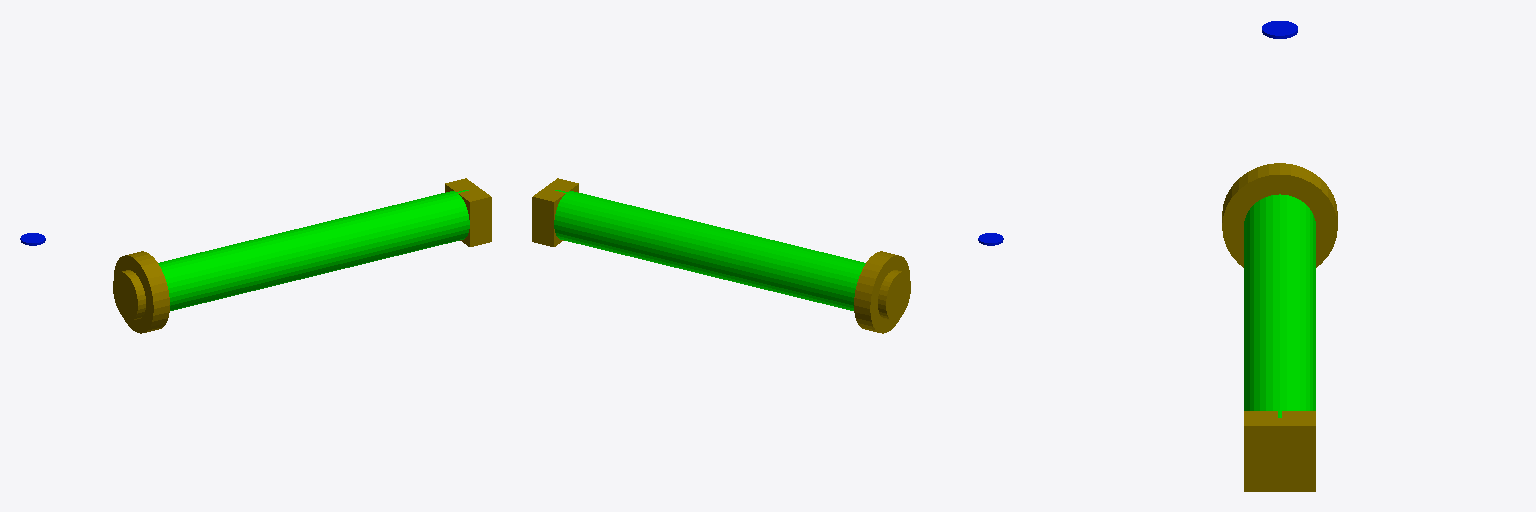
robot.urdf — tilted_hex_arm:
<?xml version="1.0"?>
<robot name="tilted_hex_arm" xmlns:xacro="http://wiki.ros.org/xacro">

    <link name="map"/>  
    <link name="base_link_roll"/>
    <link name="base_link_pitch"/>
    <link name="base_link_yaw"/>
    <link name="x_link"/>
    <link name="y_link"/>
    <link name="z_link"/>

    <joint name="x_joint" type="prismatic">
                <parent link="map"/>
                <child link="x_link"/>
                <axis xyz="1 0 0"/>
                <limit effort="1000.0" lower="-100.0" upper="100.0" velocity="20"/>
    </joint>
    <joint name="y_joint" type="prismatic">
                <parent link="x_link"/>
                <child link="y_link"/>
                <axis xyz="0 1 0"/>
                <limit effort="1000.0" lower="-100.0" upper="100.0" velocity="20"/>
    </joint>
    <joint name="z_joint" type="prismatic">
                <parent link="y_link"/>
                <child link="z_link"/>
                <axis xyz="0 0 1"/>
                <limit effort="1000.0" lower="-100.0" upper="100.0" velocity="20"/>
    </joint>
    <joint name="yaw_joint" type="revolute">
                <parent link="z_link"/>
                <child link="base_link_yaw"/>
                <axis xyz="0 0 1"/>
                <limit effort="10.0" lower="-3.141592653589793" upper="3.141592653589793" velocity="20"/>
    </joint>
    <joint name="pitch_joint" type="revolute">
                <parent link="base_link_yaw"/>
                <child link="base_link_pitch"/>
                <axis xyz="0 1 0"/>
                <limit effort="10.0" lower="-3.141592653589793" upper="3.141592653589793" velocity="20"/>
    </joint>
    <joint name="roll_joint" type="revolute">
        <parent link="base_link_pitch"/>
        <child link="base_link_roll"/>
        <axis xyz="1 0 0"/>
        <limit effort="10.0" lower="-3.141592653589793" upper="3.141592653589793" velocity="20"/>
    </joint>


    <link name='base_link'>
       <inertial>
            <origin rpy="0 0 0" xyz="0 0 0"/>
            <mass value="3.02"/>
            <inertia ixx="0.08" ixy="0.0" ixz="0.0" iyy="0.08" iyz="0.0" izz="0.12"/>
      </inertial>
      <collision>
        <origin rpy="0 0 0" xyz="0 0 -0.03"/>
        <geometry>
          <box size="0.3 0.3 0.09"/>
        </geometry>
      </collision>
      <visual>
        <origin rpy="0 0 3.141592653589793" xyz="0 0 0.0"/>
        <geometry>
          <mesh filename="package://am_description/meshes/hex_x/main_body_remeshed_v3.stl" scale="0.001 0.001 0.001"/>
        </geometry>
        <material  name="darkred">
            <color rgba="0.6 0.0 0.0 1"/>
        </material>
      </visual>
    </link>
    <joint name="base_joint" type="fixed">
        <parent link="base_link_roll"/>
        <child link="base_link"/>
    </joint>

    <link name='sim_ft_sensor'>
        <inertial>
            <origin rpy="0 0 0" xyz="0 0 0"/>
            <mass value="0.15"/>
            <inertia ixx="0.0001" ixy="0.0" ixz="0.0" iyy="0.0001" iyz="0.0" izz="0.0001"/>
        </inertial>

        <collision>
            <origin rpy="0 1.57 0" xyz="0 0 0"/>
            <geometry>
                <cylinder length="0.015" radius="0.032"/>
            </geometry>
        </collision>
        <visual>
            <origin rpy="0 1.57 0" xyz="-0.01 0 0"/>
            <geometry>
                <cylinder length="0.01" radius="0.02"/>
            </geometry>
        <material  name="darkyellow">
                <color rgba="0.6 0.5 0.0 1"/>
            </material>
        </visual>
        <visual>
            <origin rpy="0 1.57 0" xyz="0 0 0"/>
            <geometry>
                <cylinder length="0.015" radius="0.032"/>
            </geometry>
        <material  name="darkyellow">
                <color rgba="0.6 0.5 0.0 1"/>
            </material>
        </visual>
    </link>
    <joint name='ft_sensor_joint' type='fixed'>
        <child  link="sim_ft_sensor"/>
        <parent link="base_link"/>
        <origin xyz="0.10 0 -0.04" rpy="0 0 0"/> 
    </joint>

    <link name="fixed_arm">
        <inertial>
            <origin rpy="0 0 0" xyz="0 0 0"/>
            <mass value="0.1"/>
            <inertia ixx="0.0001" ixy="0.0" ixz="0.0" iyy="0.0001" iyz="0.0" izz="0.001"/>
        </inertial>

        <collision>
            <origin rpy="0 1.57 0" xyz="0 0 0"/>
            <geometry>
                <cylinder length="0.30" radius="0.02"/>
            </geometry>
        </collision>
        <visual>
            <origin rpy="0 1.57 0" xyz="0 0 0"/>
            <geometry>
                <cylinder length="0.30" radius="0.02"/>
            </geometry>
        <material  name="green">
                <color rgba="0.0 0.9 0.0 1"/>
            </material>
        </visual>
    </link>
    <joint name='arm_joint' type='fixed'>
        <child  link="fixed_arm"/>
        <parent link="sim_ft_sensor"/>
        <origin rpy="0 0 0" xyz="0.15 0 0 "/>
    </joint>

    <link name="end_effector">
        <inertial>
            <origin rpy="0 0 0" xyz="0. 0 0"/>
            <mass value="0.1"/>
            <inertia ixx="0.0001" ixy="0.0" ixz="0.0" iyy="0.0001" iyz="0.0" izz="0.0001"/>
        </inertial>

        <collision>
            <origin rpy="0 0 0" xyz="-0.01 0 0"/>
            <geometry>
                <box size="0.02 0.04 0.04"/>
            </geometry>
        </collision>
        <visual>
            <origin rpy="0 0 0" xyz="-0.01 0 0"/>
            <geometry>
                <box size="0.02 0.04 0.04"/>
            </geometry>
        <material  name="darkyellow">
                <color rgba="0.6 0.5 0.0 1"/>
            </material>
        </visual>
    </link>
    <joint name='end_effector_joint' type='fixed'>
        <child  link="end_effector"/>
        <parent link="fixed_arm"/>
        <origin rpy="0 0 0" xyz="0.16 0 0"/>
    </joint>



    <link name="imu_link">
        <inertial>
            <origin rpy="0 0 0" xyz="0 0 0"/>
            <mass value="0.015"/>
            <inertia ixx="1e-05" ixy="0.0" ixz="0.0" iyy="1e-05" iyz="0.0" izz="1e-05"/>
        </inertial>
    </link>
     <joint name='imu_joint' type='fixed'>
        <child  link="imu_link"/>
        <parent link="base_link"/>
    </joint>
   

    <link name="gps_link">
        <inertial>
            <origin rpy="0 0 0" xyz="0 0 0"/>
            <mass value="0.015"/>
            <inertia ixx="1e-05" ixy="0.0" ixz="0.0" iyy="1e-05" iyz="0.0" izz="1e-05"/>
        </inertial>
        <visual>
            <origin rpy="0 0 0" xyz="0 0 0"/>
            <geometry>
                <cylinder length="0.002" radius="0.01"/>
            </geometry>
        <material  name="blue">
                <color rgba="0.0 0.1 0.9 1"/>
            </material>
        </visual>
    </link>
     <joint name='gps_joint' type='fixed'>
        <child  link="gps_link"/>
        <parent link="base_link"/>
        <origin rpy="0 0 0" xyz="0 0 0.03"/>
    </joint>
  
    <link name='rotor1'>
       <inertial>
            <origin rpy=" 0 0 0" xyz="0. 0. 0"/>
            <mass value="0.03"/>
            <inertia ixx="9.75e-07" ixy="0.0" ixz="0.0" iyy="0.000273104" iyz="0.0" izz="0.000274004"/>
      </inertial>
      <collision>
        <origin rpy="0 0 0" xyz="0 0 0"/>
        <geometry>
            <cylinder length="0.005" radius="0.128"/>
        </geometry>
      </collision>
      <visual>
        <origin rpy="0 0 0" xyz="0.00187896 -0.242705 -0.0822169"/>
        <geometry>
          <mesh filename="package://am_description/meshes/hex_x/prop_cw_assembly_remeshed_v3.stl" scale="0.001 0.001 0.001"/>
        </geometry>
        <material  name="blue">
            <color rgba="0.0 0.0 1 1"/>
        </material>
      </visual>
    </link>
     <joint name='rotor1_joint' type='revolute'>
        <child  link="rotor1"/>
        <parent link="base_link"/>
        <axis xyz="0 0.0 1"/>
        <limit effort="10" lower="-1e+16" upper="1e+16" velocity="-1"/>
        <origin rpy="0 -0.5236 3.1416" xyz="-0.00187896 -0.242705 0.0822169"/>
    </joint>

    <link name='rotor2'>
       <inertial>
            <origin rpy=" 0 0 0" xyz="0. 0. 0"/>
            <mass value="0.03"/>
            <inertia ixx="9.75e-07" ixy="0.0" ixz="0.0" iyy="0.000273104" iyz="0.0" izz="0.000274004"/>
      </inertial>
      <collision>
        <origin rpy="0 0 0" xyz="0 0 0"/>
        <geometry>
            <cylinder length="0.005" radius="0.128"/>
        </geometry>
      </collision>
      <visual>
        <origin rpy="0 0 0" xyz="-0.211396 -0.119762 -0.082219"/>
        <geometry>
          <mesh filename="package://am_description/meshes/hex_x/prop_ccw_assembly_remeshed_v3.stl" scale="0.001 0.001 0.001"/>
        </geometry>
        <material  name="darkgray">
            <color rgba="0.6 0.6 0.6 1"/>
        </material>
      </visual>
    </link>
     <joint name='rotor2_joint' type='revolute'>
        <child  link="rotor2"/>
        <parent link="base_link"/>
        <axis xyz="0.0 0.0 1"/>
        <limit effort="10" lower="-1e+16" upper="1e+16" velocity="-1"/>
        <origin rpy="0 0.5236 0.0" xyz="-0.00187896 0.242705 0.0822169"/>
    </joint>

    <link name='rotor3'>
       <inertial>
            <origin rpy=" 0 0 0" xyz="0. 0. 0"/>
            <mass value="0.03"/>
            <inertia ixx="9.75e-07" ixy="0.0" ixz="0.0" iyy="0.000273104" iyz="0.0" izz="0.000274004"/>
      </inertial>
      <collision>
        <origin rpy="0 0 0" xyz="0 0 0"/>
        <geometry>
            <cylinder length="0.005" radius="0.128"/>
        </geometry>
      </collision>
      <visual>
        <origin rpy="0 0 0" xyz="0.00187896 -0.242705 -0.0822169"/>
        <geometry>
          <mesh filename="package://am_description/meshes/hex_x/prop_cw_assembly_remeshed_v3.stl" scale="0.001 0.001 0.001"/>
        </geometry>
        <material  name="blue">
            <color rgba="0.0 0.0 1 1"/>
        </material>
      </visual>
    </link>
     <joint name='rotor3_joint' type='revolute'>
        <child  link="rotor3"/>
        <parent link="base_link"/>
        <axis xyz="0 0.0 1"/>
        <limit effort="10" lower="-1e+16" upper="1e+16" velocity="-1"/>
        <origin rpy="0 -0.5236 -1.0472" xyz="0.211396 0.119762 0.082219"/>
    </joint>

    <link name='rotor4'>
       <inertial>
            <origin rpy=" 0 0 0" xyz="0. 0. 0"/>
            <mass value="0.03"/>
            <inertia ixx="9.75e-07" ixy="0.0" ixz="0.0" iyy="0.000273104" iyz="0.0" izz="0.000274004"/>
      </inertial>
      <collision>
        <origin rpy="0 0 0" xyz="0 0 0"/>
        <geometry>
            <cylinder length="0.005" radius="0.128"/>
        </geometry>
      </collision>
      <visual>
        <origin rpy="0 0 0" xyz="-0.211396 -0.119762 -0.082219"/>
        <geometry>
          <mesh filename="package://am_description/meshes/hex_x/prop_ccw_assembly_remeshed_v3.stl" scale="0.001 0.001 0.001"/>
        </geometry>
        <material  name="darkgray">
            <color rgba="0.6 0.6 0.6 1"/>
        </material>
      </visual>
    </link>
     <joint name='rotor4_joint' type='revolute'>
        <child  link="rotor4"/>
        <parent link="base_link"/>
        <axis xyz="0.0 0.0 1"/>
        <limit effort="10" lower="-1e+16" upper="1e+16" velocity="-1"/>
        <origin rpy="0 0.5236 2.0944" xyz="-0.209396 -0.122762 0.082219"/>
    </joint>

    <link name='rotor5'>
       <inertial>
            <origin rpy=" 0 0 0" xyz="0. 0. 0"/>
            <mass value="0.03"/>
            <inertia ixx="9.75e-07" ixy="0.0" ixz="0.0" iyy="0.000273104" iyz="0.0" izz="0.000274004"/>
      </inertial>
      <collision>
        <origin rpy="0 0 0" xyz="0 0 0"/>
        <geometry>
            <cylinder length="0.005" radius="0.128"/>
        </geometry>
      </collision>
      <visual>
        <origin rpy="0 0 0" xyz="-0.211396 -0.119762 -0.082219"/>
        <geometry>
          <mesh filename="package://am_description/meshes/hex_x/prop_ccw_assembly_remeshed_v3.stl" scale="0.001 0.001 0.001"/>
        </geometry>
        <material  name="darkgray">
            <color rgba="0.6 0.6 0.6 1"/>
        </material>
      </visual>
    </link>
     <joint name='rotor5_joint' type='revolute'>
        <child  link="rotor5"/>
        <parent link="base_link"/>
        <axis xyz="0.0 0.0 1"/>
        <limit effort="10" lower="-1e+16" upper="1e+16" velocity="-1"/>
        <origin rpy="0 0.5236 -2.0944" xyz="0.211396 -0.119762 0.082219"/>
    </joint>

    <link name='rotor6'>
       <inertial>
            <origin rpy=" 0 0 0" xyz="0. 0. 0"/>
            <mass value="0.03"/>
            <inertia ixx="9.75e-07" ixy="0.0" ixz="0.0" iyy="0.000273104" iyz="0.0" izz="0.000274004"/>
      </inertial>
      <collision>
        <origin rpy="0 0 0" xyz="0 0 0"/>
        <geometry>
            <cylinder length="0.005" radius="0.128"/>
        </geometry>
      </collision>
      <visual>
        <origin rpy="0 0 0" xyz="0.00187896 -0.242705 -0.0822169"/>
        <geometry>
          <mesh filename="package://am_description/meshes/hex_x/prop_cw_assembly_remeshed_v3.stl" scale="0.001 0.001 0.001"/>
        </geometry>
        <material  name="blue">
            <color rgba="0.0 0.0 1 1"/>
        </material>
      </visual>
    </link>
     <joint name='rotor6_joint' type='revolute'>
        <child  link="rotor6"/>
        <parent link="base_link"/>
        <axis xyz="0 0.0 1"/>
        <limit effort="10" lower="-1e+16" upper="1e+16" velocity="-1"/>
        <origin rpy="0 -0.5236 1.0472" xyz="-0.209396 0.122762 0.082219"/>
    </joint>
</robot>

--- Facts derived from the render (not from the file) ---
3 views of the same robot in one strip: view 1: azimuth 30°, elevation 25°; view 2: azimuth 150°, elevation 25°; view 3: azimuth 270°, elevation 25° (orthographic).
Model tilted_hex_arm with 19 links and 18 joints (9 revolute, 3 prismatic, 6 fixed), rooted at map, posed all joints at 0.
Links seen in each view (by area): view 1: fixed_arm, sim_ft_sensor, end_effector; view 2: fixed_arm, sim_ft_sensor, end_effector; view 3: fixed_arm, end_effector, sim_ft_sensor, gps_link.
Link boxes in pixels (<box>): fixed_arm: <box>158,190,469,310</box>; sim_ft_sensor: <box>113,251,169,333</box>; end_effector: <box>445,178,491,246</box>; fixed_arm: <box>554,190,865,310</box>; sim_ft_sensor: <box>854,251,910,333</box>; end_effector: <box>532,178,578,246</box>; fixed_arm: <box>1244,194,1315,417</box>; end_effector: <box>1244,411,1315,491</box>; sim_ft_sensor: <box>1222,163,1337,267</box>; gps_link: <box>1262,21,1297,38</box>.
Bounding box of the posed robot: 0.42 × 0.064 × 0.103 m (x, y, z).
Meshes: 3 distinct files referenced, 0 mesh visuals loaded (none loaded); not drawn: 7 (reference not matched to a file when rendering).